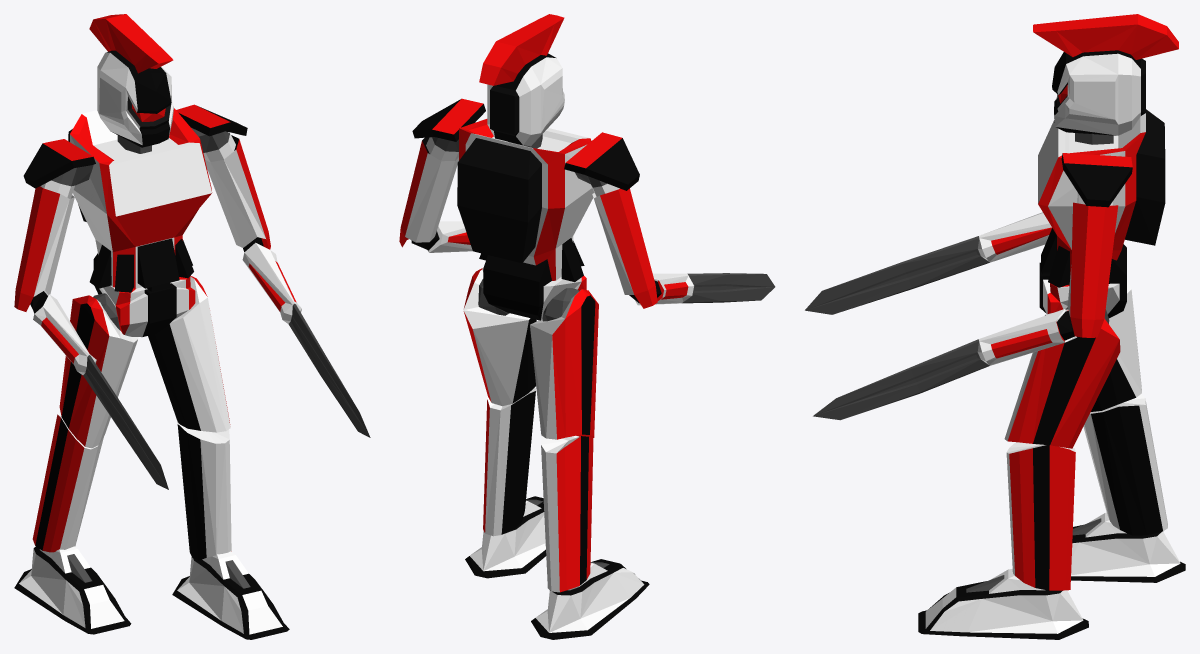
The model's file is robots_000015.obj.
The picture shows the model from 3 angles, left to right: view 1: azimuth 30°, elevation 25°; view 2: azimuth 150°, elevation 25°; view 3: azimuth 270°, elevation 25°; orthographic projection. The views are drawn at different scales.
Visible parts, largest first — view 1: Chest_plate_Cube.004, R_Forearm.001_Cube.028, Head_gladiator_Cube.024, R_Forearm.002_Cube.033, R_Thigh.002_Cube.027, R_Thigh_Cube.005, R_Shin.002_Cube.029, R_Foot_Cube, R_Foot.002_Cube.035, R_Shin_Cube.007, Pelvis_Cube.006, R_Arm.002_Cube.032 (+1 smaller); view 2: Chest_plate_Cube.004, Head_gladiator_Cube.024, R_Thigh_Cube.005, R_Forearm.001_Cube.028, R_Shin_Cube.007, R_Shin.002_Cube.029, R_Thigh.002_Cube.027, R_Foot_Cube, R_Forearm.002_Cube.033, Pelvis_Cube.006, R_Foot.002_Cube.035, R_Arm.002_Cube.032 (+2 smaller); view 3: R_Forearm.002_Cube.033, Head_gladiator_Cube.024, Chest_plate_Cube.004, R_Shin.002_Cube.029, R_Thigh.002_Cube.027, R_Shin_Cube.007, R_Foot.002_Cube.035, R_Forearm.001_Cube.028, R_Foot_Cube, R_Arm.003_Cube.034, R_Thigh_Cube.005, Pelvis_Cube.006.
Part boxes in pixels (x1,y1,x2,y2): Chest_plate_Cube.004: (68,108,212,292); R_Forearm.001_Cube.028: (14,186,168,489); Head_gladiator_Cube.024: (89,14,173,147); R_Forearm.002_Cube.033: (205,135,370,437); R_Thigh.002_Cube.027: (148,276,230,432); R_Thigh_Cube.005: (59,295,138,448); R_Shin.002_Cube.029: (177,422,231,560); R_Foot_Cube: (14,546,131,634); R_Foot.002_Cube.035: (172,551,289,639); R_Shin_Cube.007: (32,414,103,552); Pelvis_Cube.006: (93,253,195,337); R_Arm.002_Cube.032: (23,139,95,198); Chest_plate_Cube.004: (457,119,594,281); Head_gladiator_Cube.024: (479,14,564,146); R_Thigh_Cube.005: (530,289,598,439); R_Forearm.001_Cube.028: (592,188,775,308); R_Shin_Cube.007: (541,435,593,592); R_Shin.002_Cube.029: (483,387,535,536); R_Thigh.002_Cube.027: (463,268,536,406); R_Foot_Cube: (531,559,649,639); R_Forearm.002_Cube.033: (399,137,472,252); Pelvis_Cube.006: (482,255,586,320); R_Foot.002_Cube.035: (465,496,546,578); R_Arm.002_Cube.032: (564,132,639,196); R_Forearm.002_Cube.033: (813,202,1118,420); Head_gladiator_Cube.024: (1033,14,1178,135); Chest_plate_Cube.004: (1038,109,1165,287); R_Shin.002_Cube.029: (1006,442,1075,590); R_Thigh.002_Cube.027: (1004,309,1120,448); R_Shin_Cube.007: (1083,394,1167,535); R_Foot.002_Cube.035: (918,569,1088,639); R_Forearm.001_Cube.028: (805,212,1051,314); R_Foot_Cube: (1071,512,1185,582); R_Arm.003_Cube.034: (1061,153,1132,207); R_Thigh_Cube.005: (1091,280,1141,411); Pelvis_Cube.006: (1039,244,1126,318).
Size of the model in its own units: 1.51 by 3.17 by 1.89.
